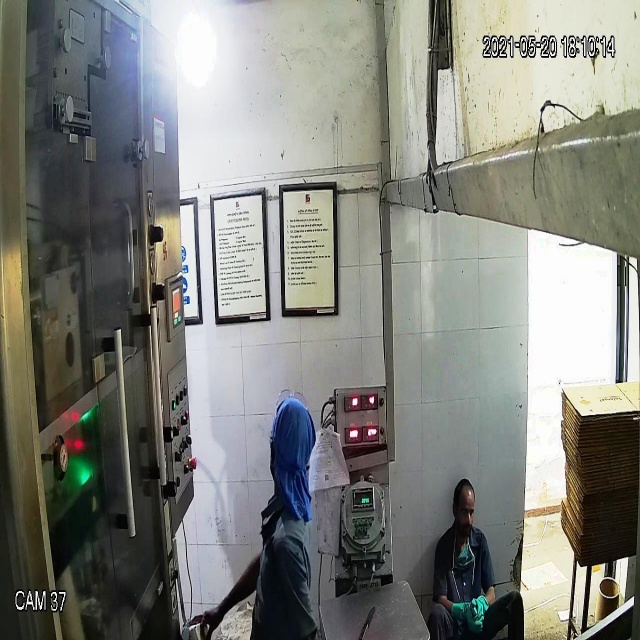Sin_gafas: (448, 499, 477, 526)
